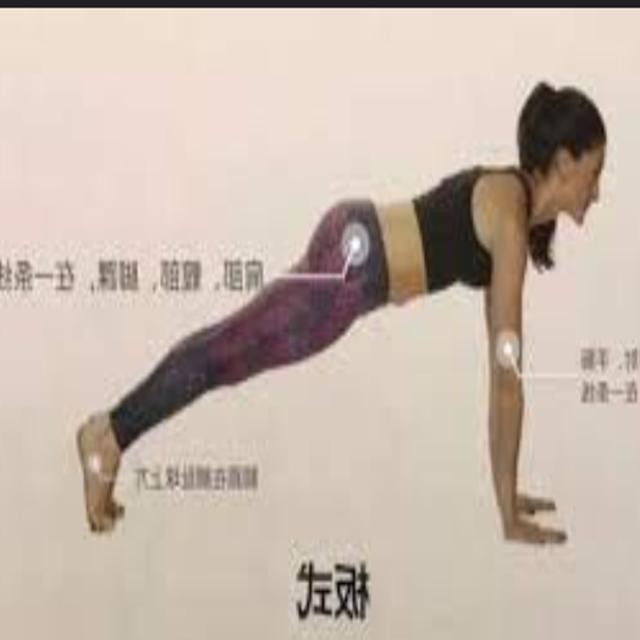Plank_Pose: (67, 69, 612, 556)
